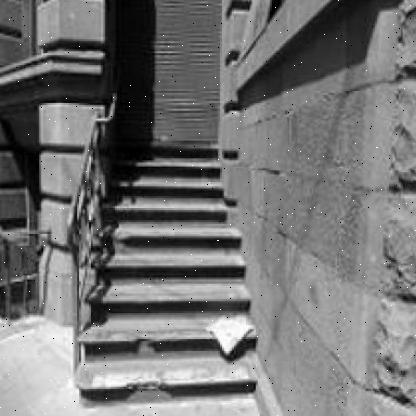stair_up: (85, 111, 248, 387)
